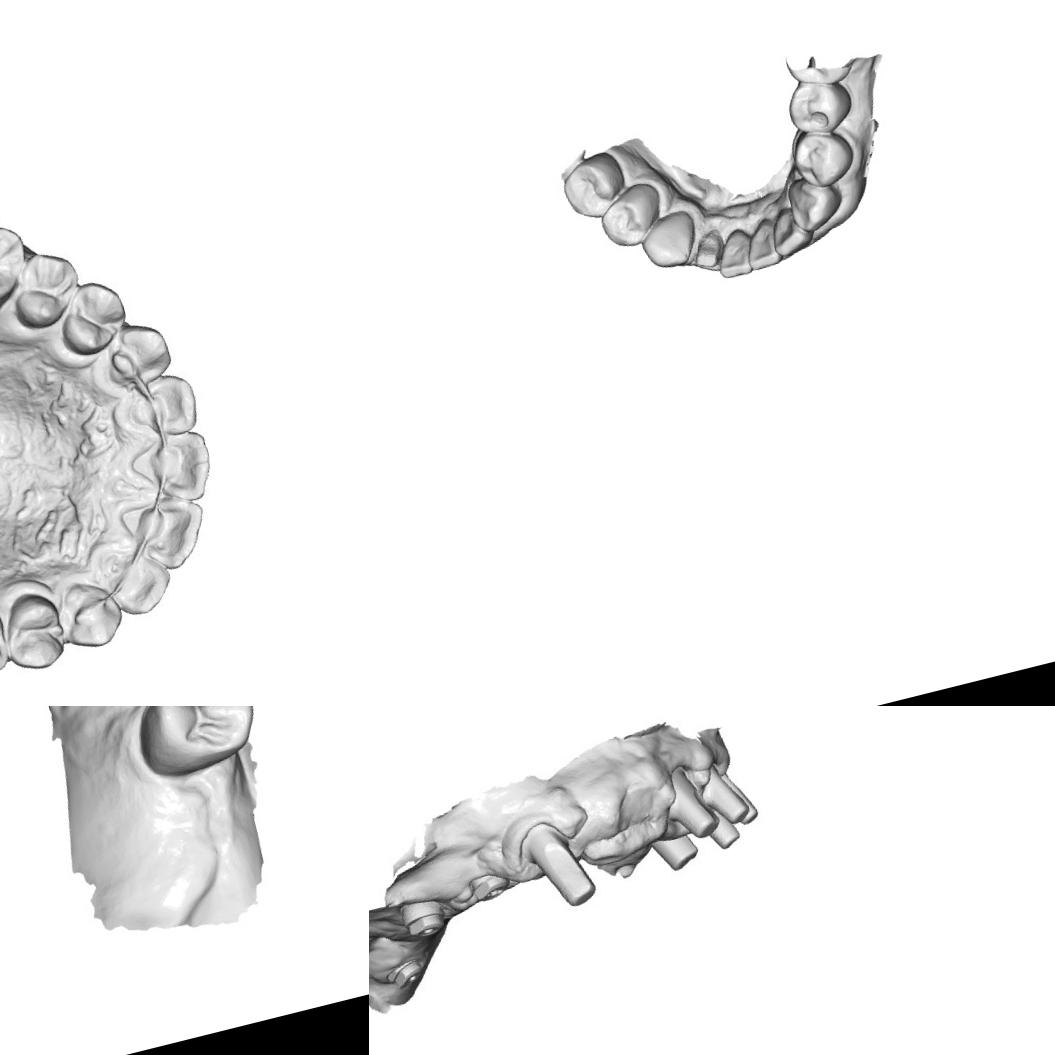abutment: (512, 812, 600, 918), (656, 758, 724, 846), (696, 759, 752, 830), (648, 824, 704, 877), (728, 771, 762, 827), (704, 817, 744, 854)
canine: (53, 572, 128, 655), (105, 316, 176, 394), (634, 208, 703, 274), (783, 168, 847, 234)
crown: (689, 228, 727, 270)
implant: (395, 894, 450, 944), (384, 953, 432, 993)
implant_minus: (466, 867, 514, 906)
incisor: (90, 532, 176, 622), (130, 427, 218, 512), (122, 494, 212, 576), (110, 370, 200, 444), (765, 202, 818, 260), (738, 216, 782, 271), (710, 228, 752, 280)
molar: (122, 706, 266, 785), (0, 212, 36, 324)
premolar: (3, 245, 88, 330), (0, 585, 72, 676), (50, 278, 128, 362), (556, 148, 632, 224), (782, 72, 858, 140), (786, 122, 858, 192), (594, 186, 658, 252)
